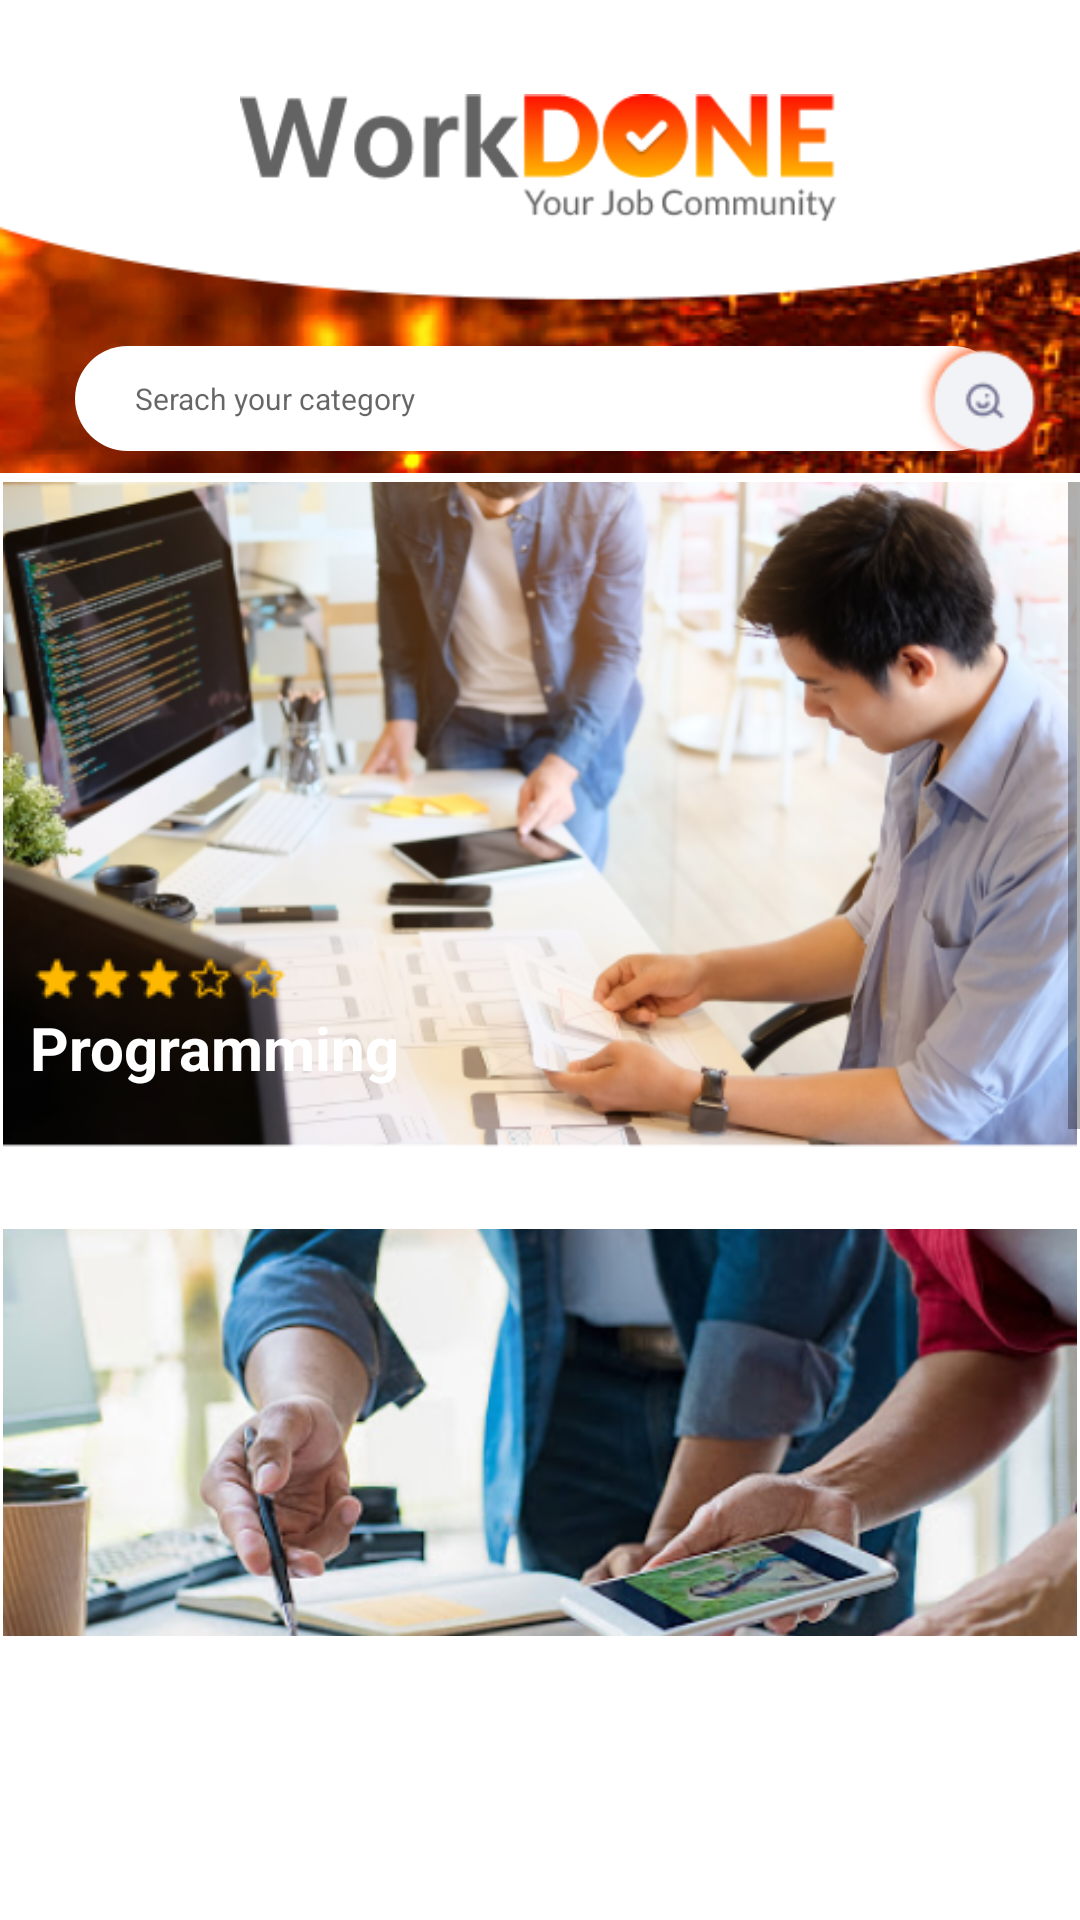

Named icons in this screenshot (1080 × 1920) and their centers, (x=x, y=y):
estrellas: (x=163, y=980)
